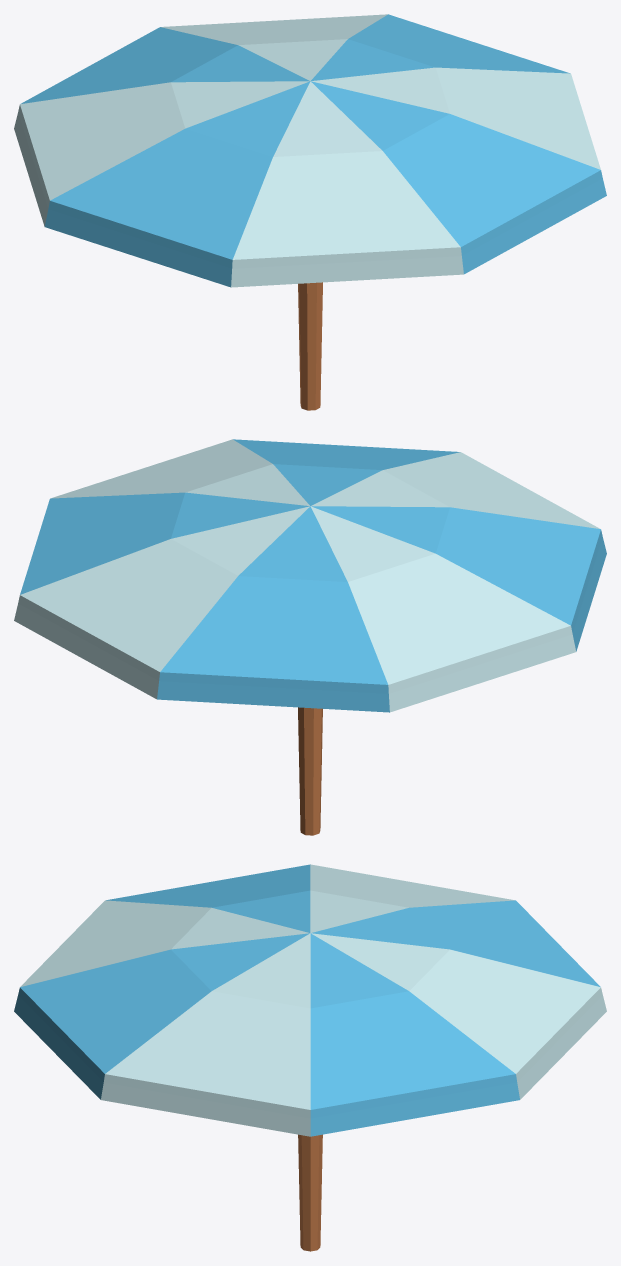
File: table_ombrella_blue.fbx
The picture shows the model from 3 angles, top to bottom: view 1: azimuth 30°, elevation 25°; view 2: azimuth 150°, elevation 25°; view 3: azimuth 270°, elevation 25°; orthographic projection. The views are drawn at different scales.
Parts seen in each view (by area): view 1: table_ombrella_blue; view 2: table_ombrella_blue; view 3: table_ombrella_blue.
Boxes of the visible parts, x1,y1,x2,y2 form: table_ombrella_blue: [14, 14, 606, 410]; table_ombrella_blue: [14, 439, 606, 835]; table_ombrella_blue: [14, 864, 606, 1251].
Size of the model in its own units: 355 by 207 by 355.
1 material, 1 textured.
